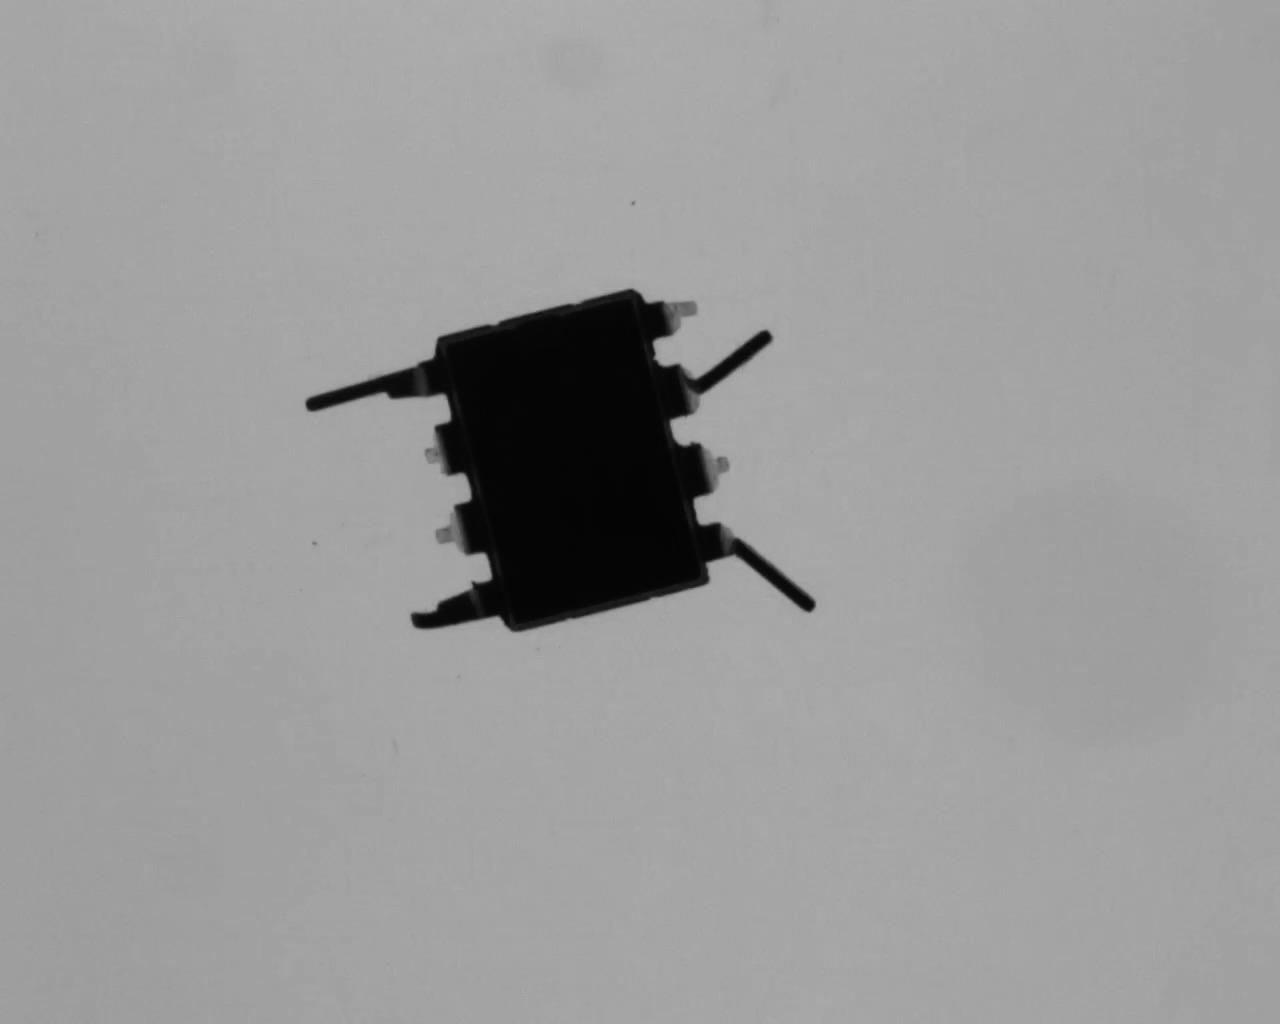Leg: (654, 326, 781, 424), (699, 521, 821, 618), (287, 351, 446, 412), (389, 572, 506, 630), (422, 493, 489, 563), (412, 419, 476, 478), (680, 437, 738, 503), (642, 295, 704, 342)
